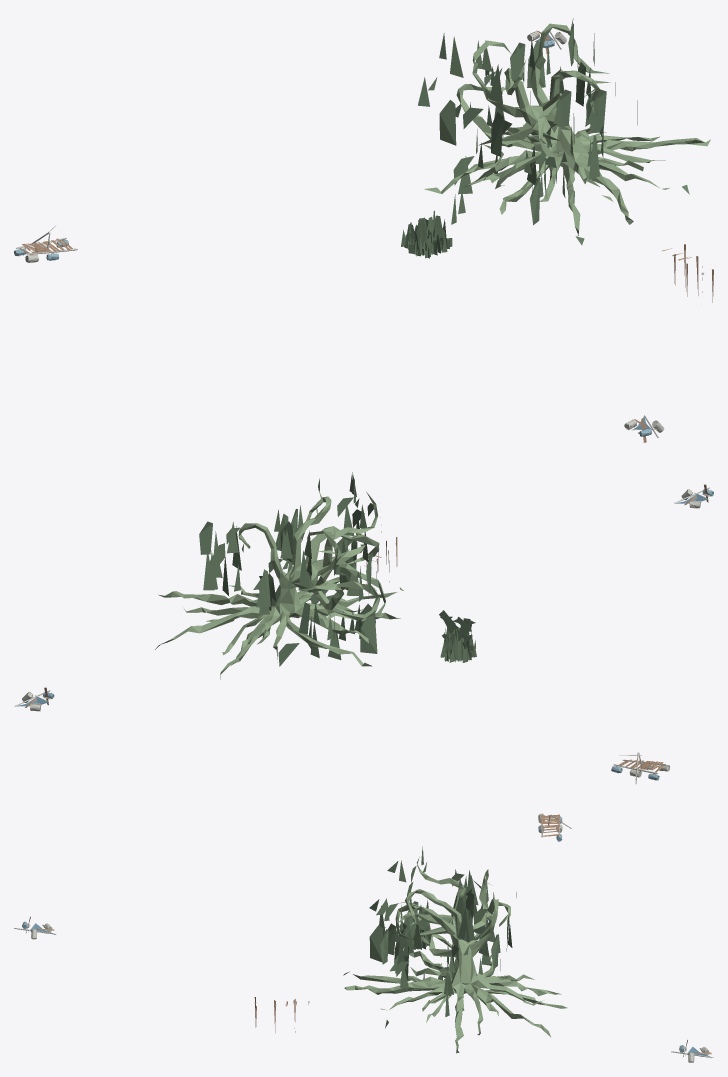
File: swamp_a.glb
The picture shows the model from 3 angles, top to bottom: view 1: azimuth 30°, elevation 25°; view 2: azimuth 150°, elevation 25°; view 3: azimuth 270°, elevation 25°; orthographic projection. The views are drawn at different scales.
Visible parts, largest first — view 1: swamp_hero_tree_a_LOD0, reeds_dead_LOD0, floating_planks_LOD0; view 2: swamp_hero_tree_a_LOD0, reeds_dead_LOD0, floating_planks_LOD0; view 3: swamp_hero_tree_a_LOD0, reeds_dead_LOD0, floating_planks_LOD0.
Part boxes in pixels (box(x1,y1,x2,y2)): swamp_hero_tree_a_LOD0: box(424, 23, 710, 236); reeds_dead_LOD0: box(401, 18, 689, 258); floating_planks_LOD0: box(16, 30, 713, 442); swamp_hero_tree_a_LOD0: box(155, 491, 400, 679); reeds_dead_LOD0: box(199, 472, 476, 666); floating_planks_LOD0: box(14, 484, 710, 783); swamp_hero_tree_a_LOD0: box(344, 857, 567, 1053); reeds_dead_LOD0: box(343, 846, 516, 1028); floating_planks_LOD0: box(14, 813, 713, 1062).
Size of the model in its own units: 88.33 by 27.82 by 108.
